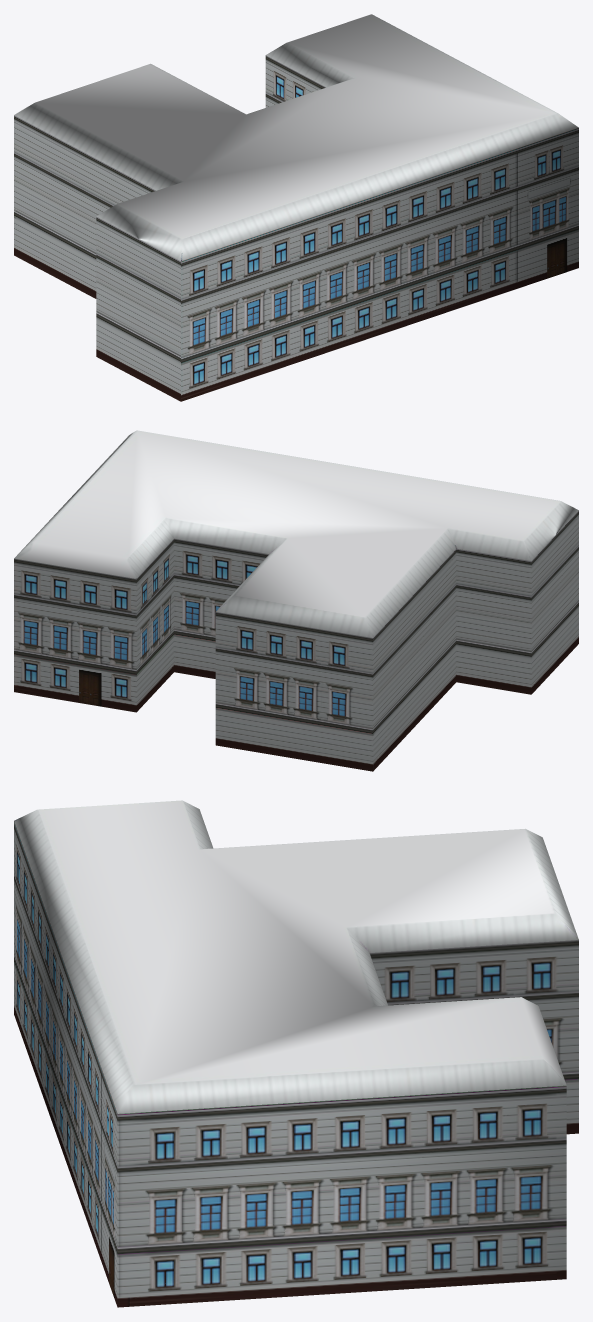
File: lp-building1.fbx
3 renders of one model, top to bottom at view 1: azimuth 30°, elevation 25°; view 2: azimuth 150°, elevation 25°; view 3: azimuth 270°, elevation 25°, orthographic. The views are drawn at different scales.
Visible parts, largest first — view 1: 01houses.026; view 2: 01houses.026; view 3: 01houses.026.
Boxes of the visible parts, x1,y1,x2,y2 form: 01houses.026: (14,14,578,401); 01houses.026: (14,430,578,771); 01houses.026: (14,800,578,1307).
Size of the model in its own units: 1396 by 453 by 1093.
1 material, 1 textured.
